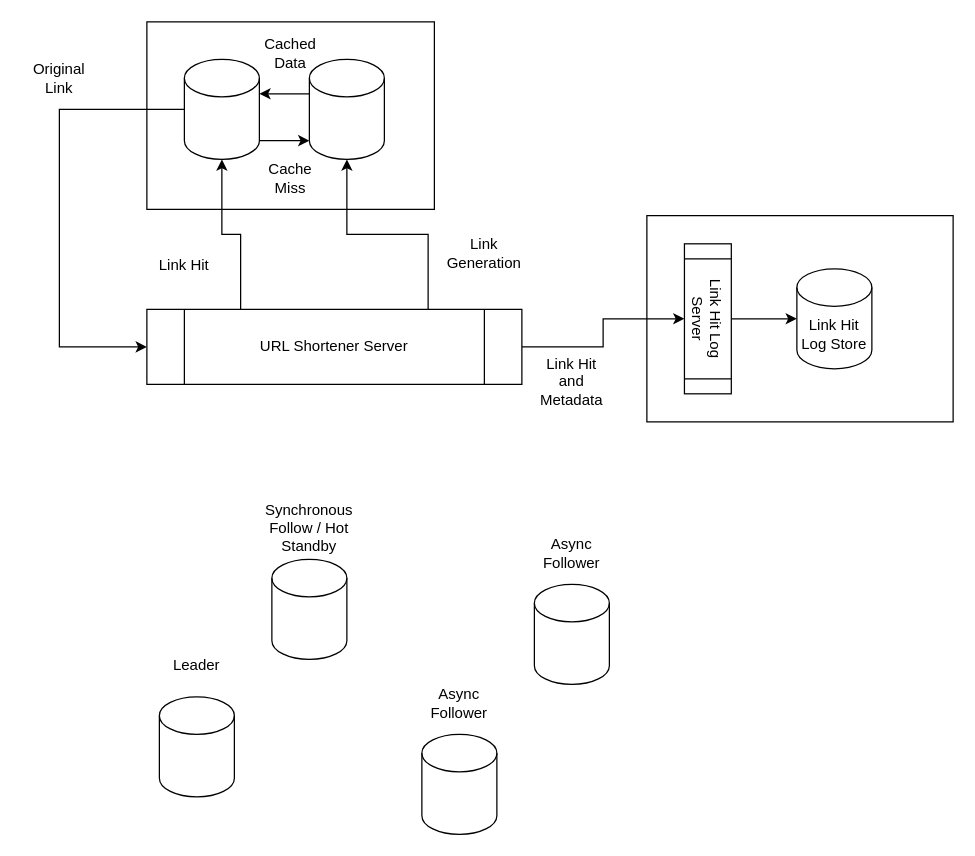
Some shapes in this 975 by 856 pixel diagram are drawn without their labels. Each missing label, with the centre of its shape:
"Cache in Memory" belongs at pixel 221 108.
"Disk Storage" belongs at pixel 346 108.
